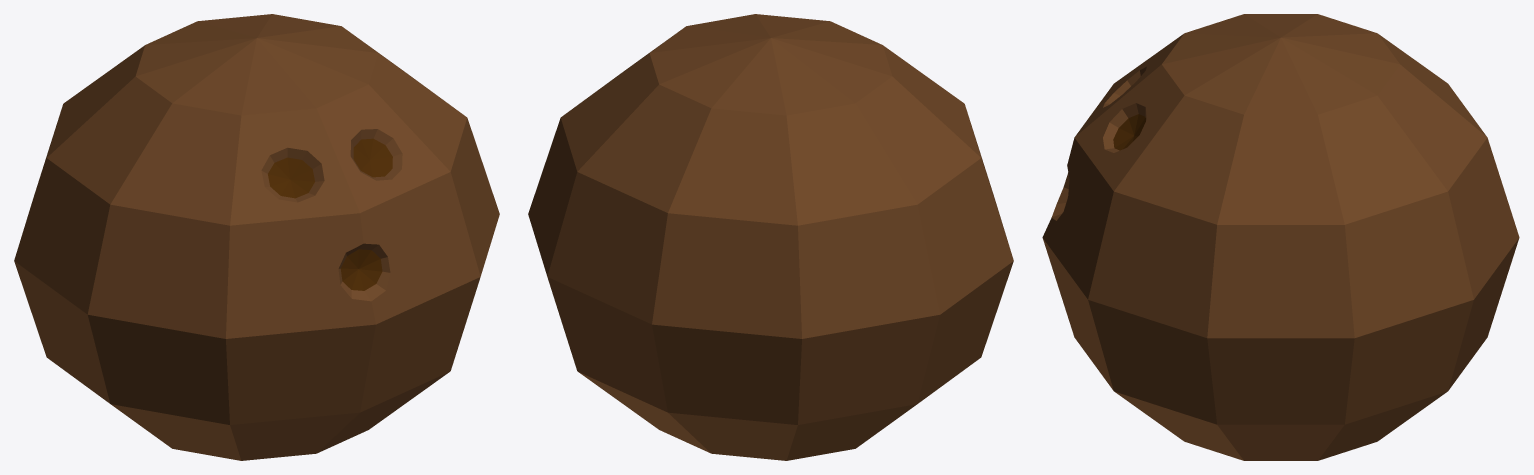
The model's file is Coconaut.fbx.
3 renders of one model, left to right at view 1: azimuth 30°, elevation 25°; view 2: azimuth 150°, elevation 25°; view 3: azimuth 270°, elevation 25°, orthographic.
Parts seen in each view (by area): view 1: coconaut; view 2: coconaut; view 3: coconaut.
Part boxes in pixels (<box>): coconaut: <box>14,14,499,460</box>; coconaut: <box>528,14,1013,460</box>; coconaut: <box>1042,14,1519,460</box>.
Bounding box in the file's own units: 100 × 92.46 × 100.
